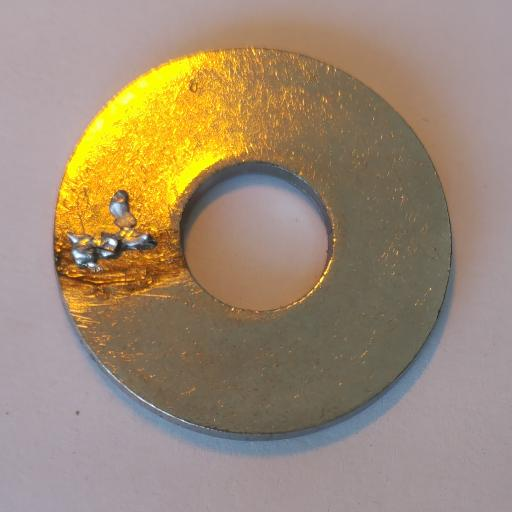excess_material: (66, 191, 157, 273)
